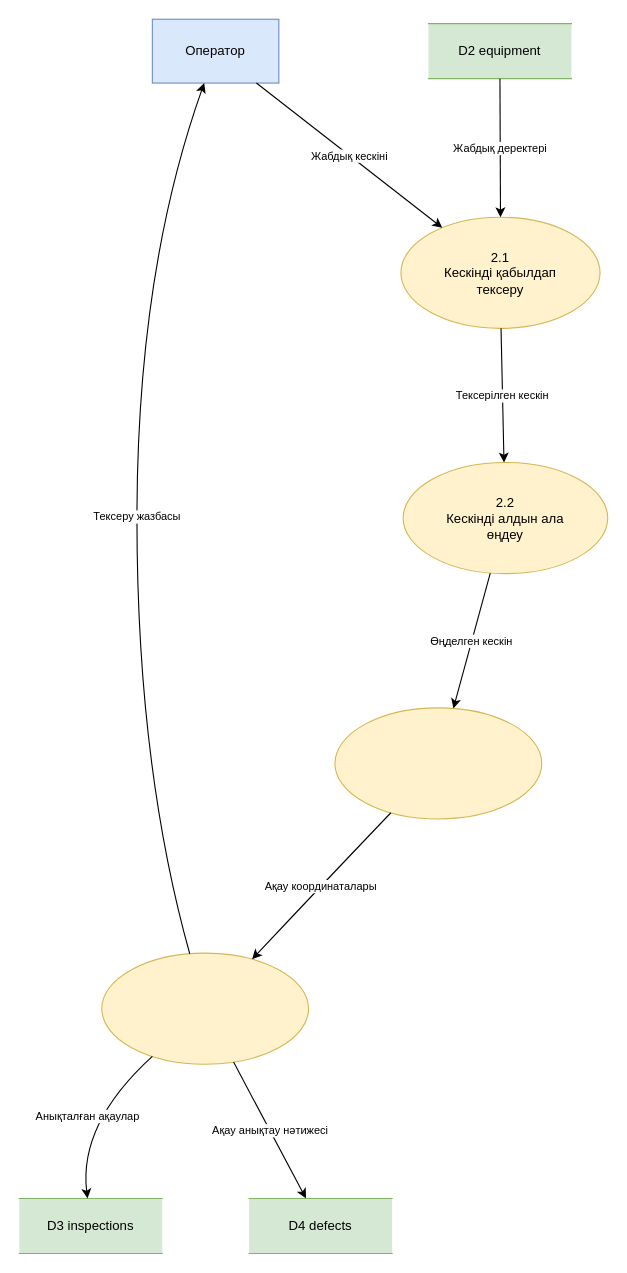
Image size: 627x1273. Some labels were removed from this diagram. The shapes that lost their labels are listed below. From the top down, each one's centre as x and y in pixels, then its label:
At [438,763]: "2.3 Ақауларды ML моделімен анықтау".
At [205,1008]: "2.4 Анықтау нәтижесін сақтау".
